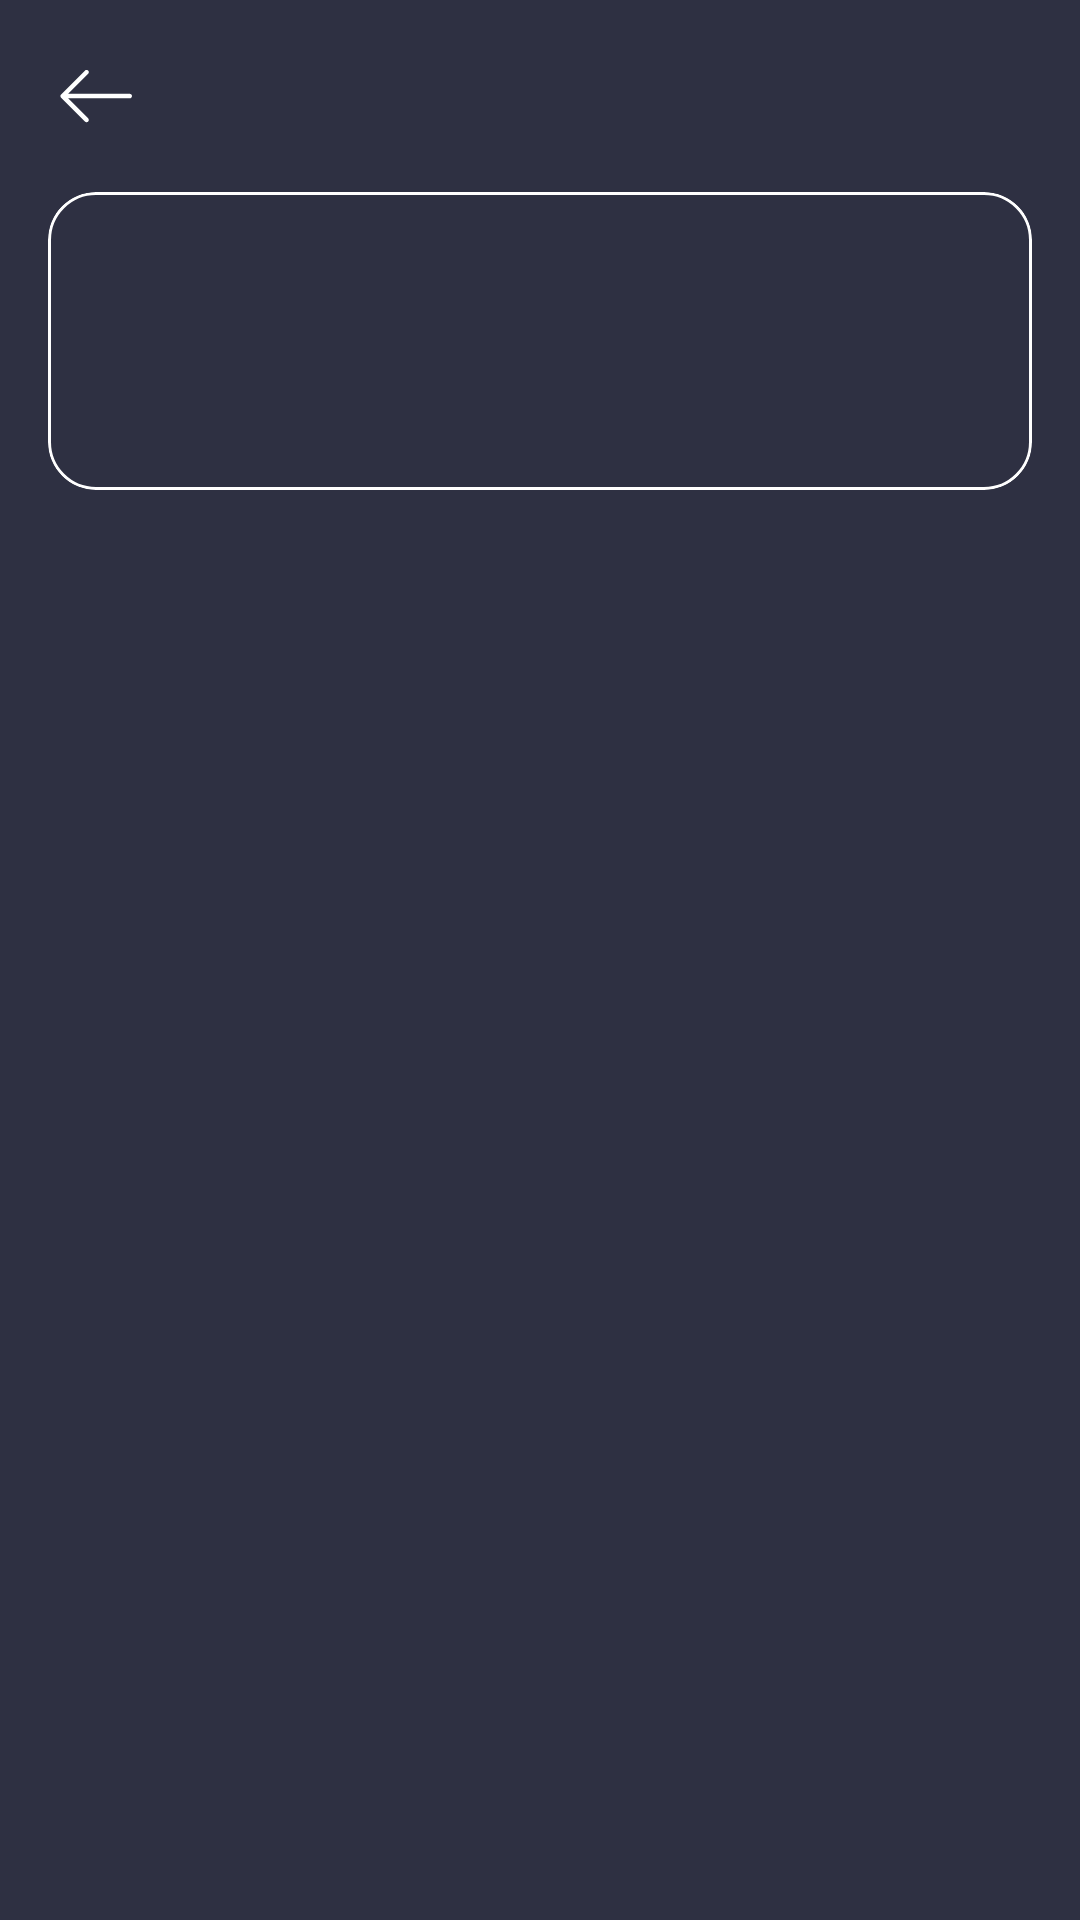

Point at icon controls on the screen. Image size 1080 × 1920, points as [x,y].
back: [96,96]
